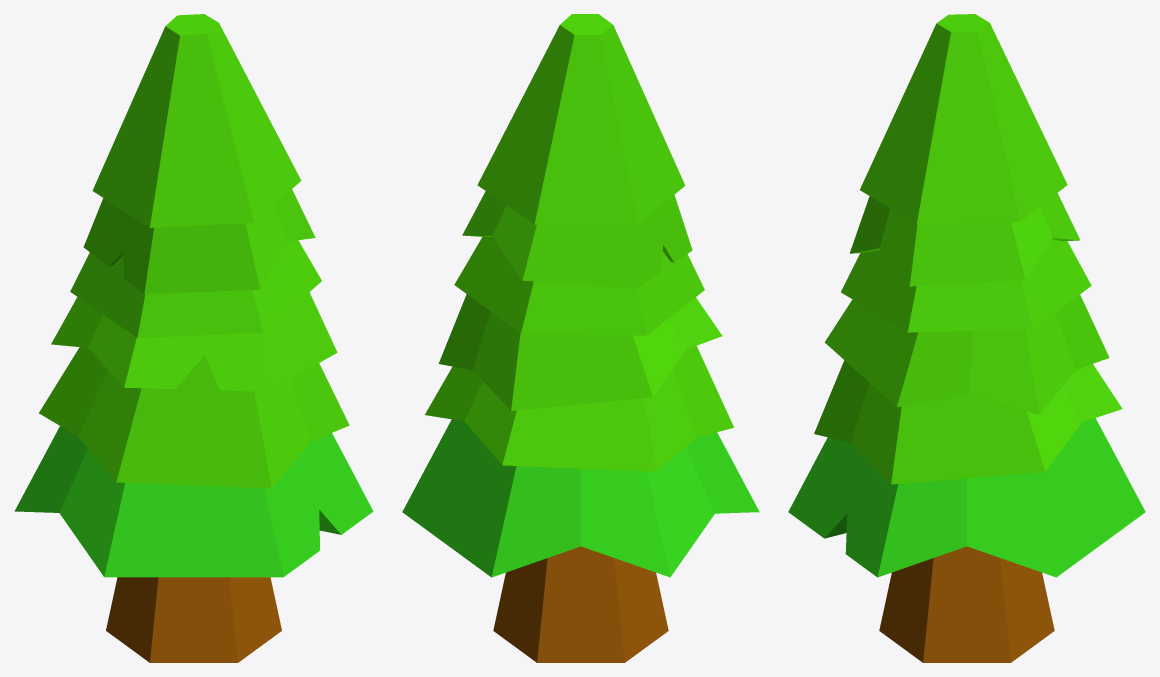
Rendered from Tree.fbx.
3 views of the same model, side by side, from view 1: azimuth 30°, elevation 25°; view 2: azimuth 150°, elevation 25°; view 3: azimuth 270°, elevation 25° (orthographic).
Parts seen in each view (by area): view 1: Zylinder.001, Zylinder.006, Zylinder.002, Zylinder.003, Zylinder.005, Zylinder, Zylinder.004; view 2: Zylinder.001, Zylinder.006, Zylinder.002, Zylinder.003, Zylinder, Zylinder.004, Zylinder.005; view 3: Zylinder.001, Zylinder.006, Zylinder.002, Zylinder.003, Zylinder, Zylinder.004, Zylinder.005.
Boxes of the visible parts, box(x1,y1,x2,y2) form: Zylinder.001: box(14, 426, 373, 577); Zylinder.006: box(92, 14, 301, 227); Zylinder.002: box(39, 347, 349, 488); Zylinder.003: box(51, 292, 337, 391); Zylinder.005: box(83, 189, 315, 294); Zylinder: box(106, 577, 281, 662); Zylinder.004: box(70, 240, 321, 337); Zylinder.001: box(402, 419, 759, 577); Zylinder.006: box(477, 14, 685, 224); Zylinder.002: box(425, 346, 733, 471); Zylinder.003: box(438, 294, 722, 410); Zylinder: box(493, 546, 668, 662); Zylinder.004: box(454, 236, 704, 335); Zylinder.005: box(462, 191, 692, 287); Zylinder.001: box(788, 418, 1145, 577); Zylinder.006: box(860, 14, 1067, 224); Zylinder.002: box(814, 360, 1122, 484); Zylinder.003: box(824, 294, 1109, 414); Zylinder: box(879, 546, 1054, 662); Zylinder.004: box(841, 239, 1091, 332); Zylinder.005: box(849, 193, 1079, 286).
Size of the model in its own units: 353 by 763 by 408.
